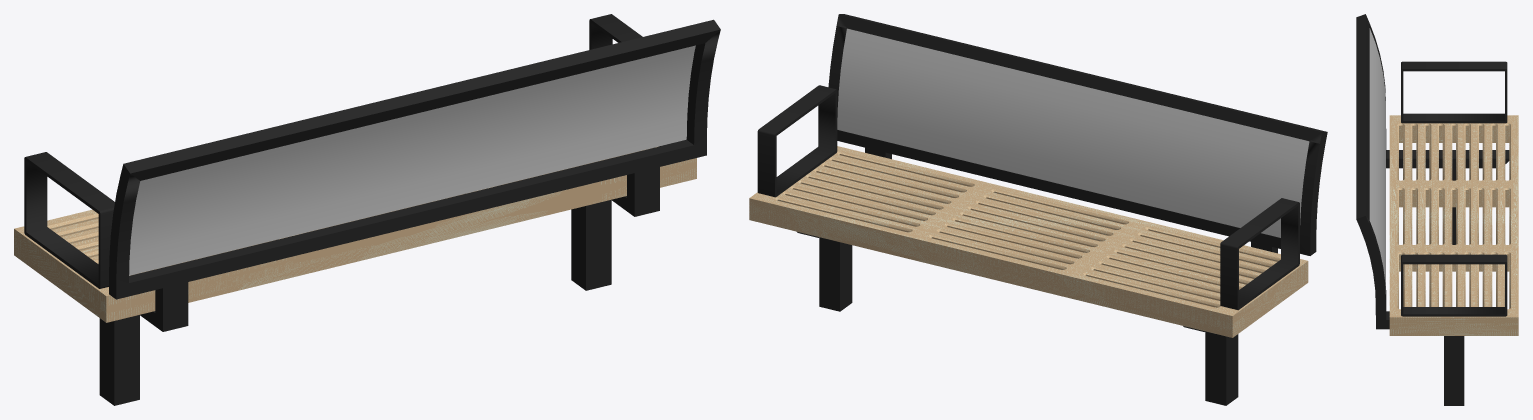
The picture shows the model from 3 angles, left to right: view 1: azimuth 30°, elevation 25°; view 2: azimuth 150°, elevation 25°; view 3: azimuth 270°, elevation 25°; orthographic projection. The views are drawn at different scales.
Parts seen in each view (by area): view 1: mesh19_mesh19-geometry, mesh17_mesh17-geometry, mesh3_mesh3-geometry, mesh4_mesh4-geometry, mesh1_mesh1-geometry, mesh9_mesh9-geometry, mesh15_mesh15-geometry, mesh13_mesh13-geometry; view 2: mesh19_mesh19-geometry, mesh3_mesh3-geometry, mesh17_mesh17-geometry, mesh4_mesh4-geometry, mesh1_mesh1-geometry, mesh15_mesh15-geometry, mesh13_mesh13-geometry; view 3: mesh3_mesh3-geometry, mesh4_mesh4-geometry, mesh19_mesh19-geometry, mesh17_mesh17-geometry, mesh1_mesh1-geometry, mesh13_mesh13-geometry, mesh9_mesh9-geometry.
Part boxes in pixels (<box>): mesh19_mesh19-geometry: <box>129,45,695,275</box>; mesh17_mesh17-geometry: <box>116,19,720,299</box>; mesh3_mesh3-geometry: <box>14,146,696,322</box>; mesh4_mesh4-geometry: <box>24,14,686,288</box>; mesh1_mesh1-geometry: <box>99,200,611,405</box>; mesh9_mesh9-geometry: <box>140,167,659,331</box>; mesh15_mesh15-geometry: <box>109,164,140,299</box>; mesh13_mesh13-geometry: <box>686,30,720,155</box>; mesh19_mesh19-geometry: <box>837,28,1309,237</box>; mesh3_mesh3-geometry: <box>749,146,1308,337</box>; mesh17_mesh17-geometry: <box>837,14,1326,255</box>; mesh4_mesh4-geometry: <box>757,85,1299,310</box>; mesh1_mesh1-geometry: <box>819,237,1238,405</box>; mesh15_mesh15-geometry: <box>1300,132,1327,255</box>; mesh13_mesh13-geometry: <box>828,14,846,117</box>; mesh3_mesh3-geometry: <box>1389,115,1518,335</box>; mesh4_mesh4-geometry: <box>1401,61,1507,316</box>; mesh19_mesh19-geometry: <box>1369,28,1385,293</box>; mesh17_mesh17-geometry: <box>1356,14,1369,219</box>; mesh1_mesh1-geometry: <box>1444,168,1464,405</box>; mesh13_mesh13-geometry: <box>1356,216,1385,314</box>; mesh9_mesh9-geometry: <box>1376,129,1509,329</box>.
Bounding box in the file's own units: 0.863 × 0.411 × 0.2938.
